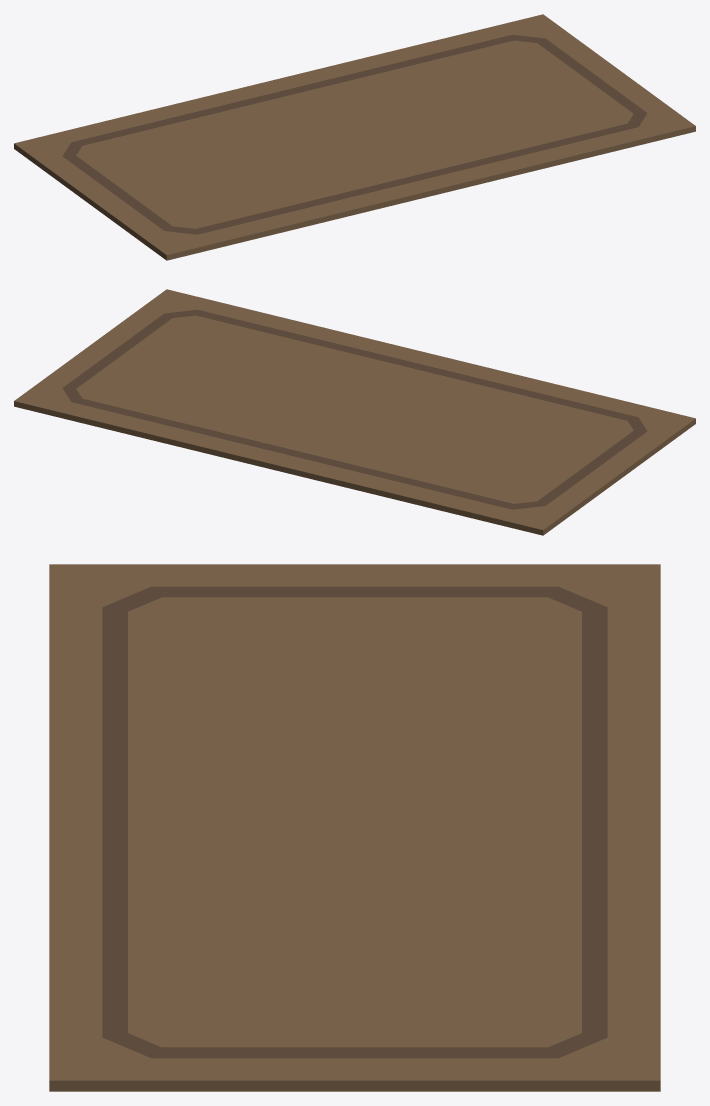
Rendered from SM_Props_Interior_House_Room_Rug_02.fbx.
3 renders of one model, top to bottom at view 1: azimuth 30°, elevation 25°; view 2: azimuth 150°, elevation 25°; view 3: azimuth 270°, elevation 25°, orthographic. The views are drawn at different scales.
Parts seen in each view (by area): view 1: SM_Props_Interior_House_Room_Rug_02; view 2: SM_Props_Interior_House_Room_Rug_02; view 3: SM_Props_Interior_House_Room_Rug_02.
Boxes of the visible parts, x1,y1,x2,y2 form: SM_Props_Interior_House_Room_Rug_02: (14, 14, 695, 260); SM_Props_Interior_House_Room_Rug_02: (14, 289, 695, 535); SM_Props_Interior_House_Room_Rug_02: (49, 564, 660, 1091).
Size of the model in its own units: 200 by 2 by 100.
